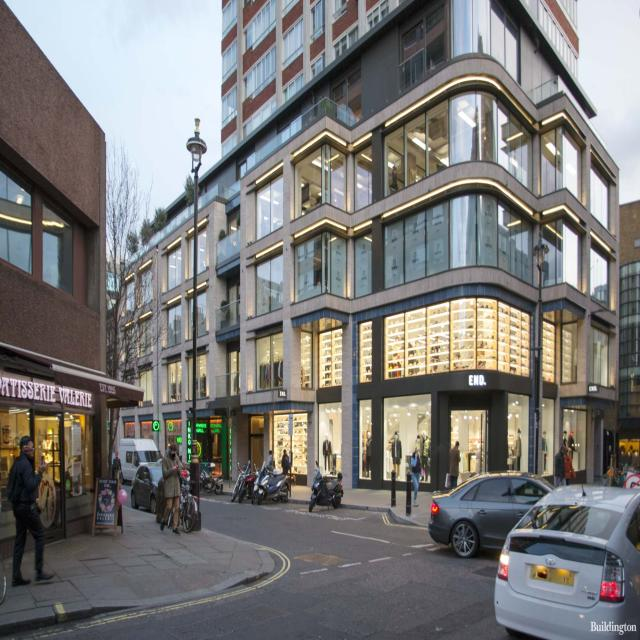Street Light: (185, 118, 210, 529), (531, 235, 549, 497)
